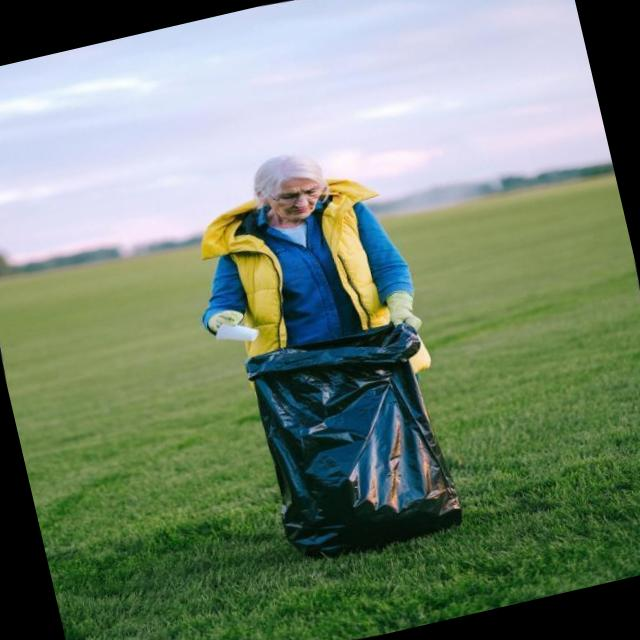KantongPlastik: (232, 298, 472, 582)
